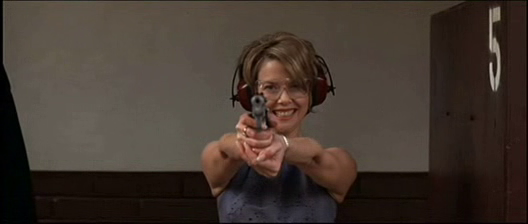face: (258, 61, 310, 132)
mcu: (1, 1, 528, 224)
person: (201, 30, 356, 222)
